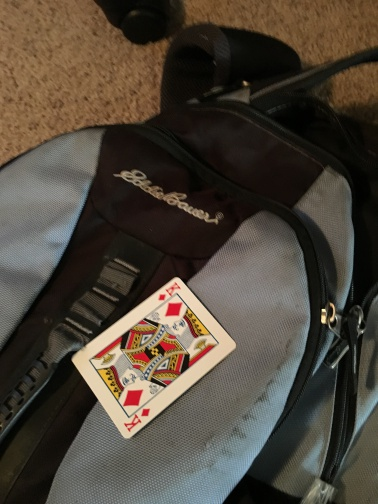king: (71, 276, 237, 440)
